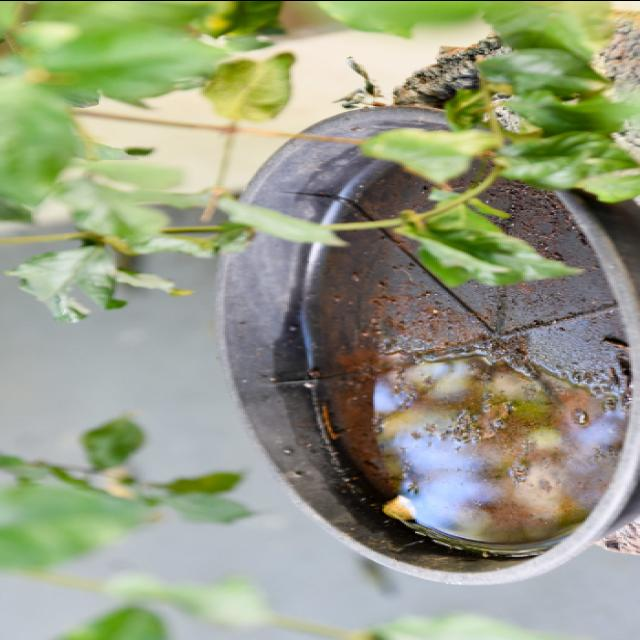Breeding Place: (223, 100, 640, 580)
